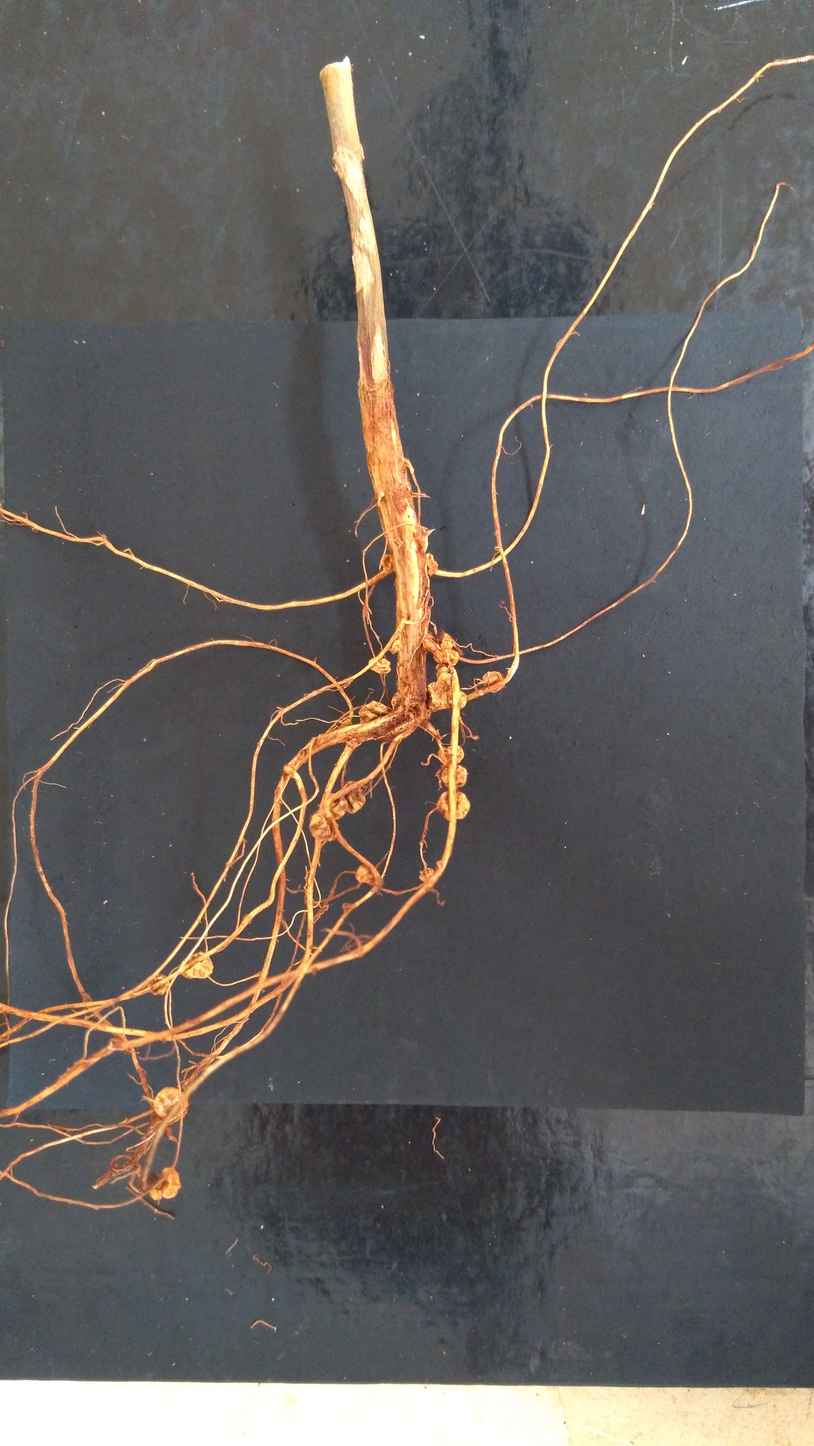nodule: (153, 1087, 188, 1118), (150, 1167, 180, 1201), (436, 791, 470, 820), (181, 952, 213, 979), (309, 812, 336, 841), (342, 781, 365, 814), (428, 681, 451, 711), (358, 701, 388, 722), (440, 765, 467, 788), (326, 793, 347, 820), (438, 745, 464, 765), (146, 974, 169, 995), (482, 671, 503, 693), (447, 689, 467, 709), (368, 658, 390, 674), (356, 865, 374, 884), (435, 673, 451, 693), (425, 553, 438, 577), (442, 649, 459, 666), (422, 631, 435, 652), (441, 632, 453, 650), (388, 640, 403, 654), (419, 868, 434, 882), (436, 663, 449, 679), (433, 649, 444, 664), (419, 535, 428, 553), (382, 554, 392, 569), (391, 691, 398, 710), (342, 902, 352, 912), (283, 764, 293, 774), (343, 719, 352, 726), (436, 860, 442, 868), (302, 750, 306, 755)
